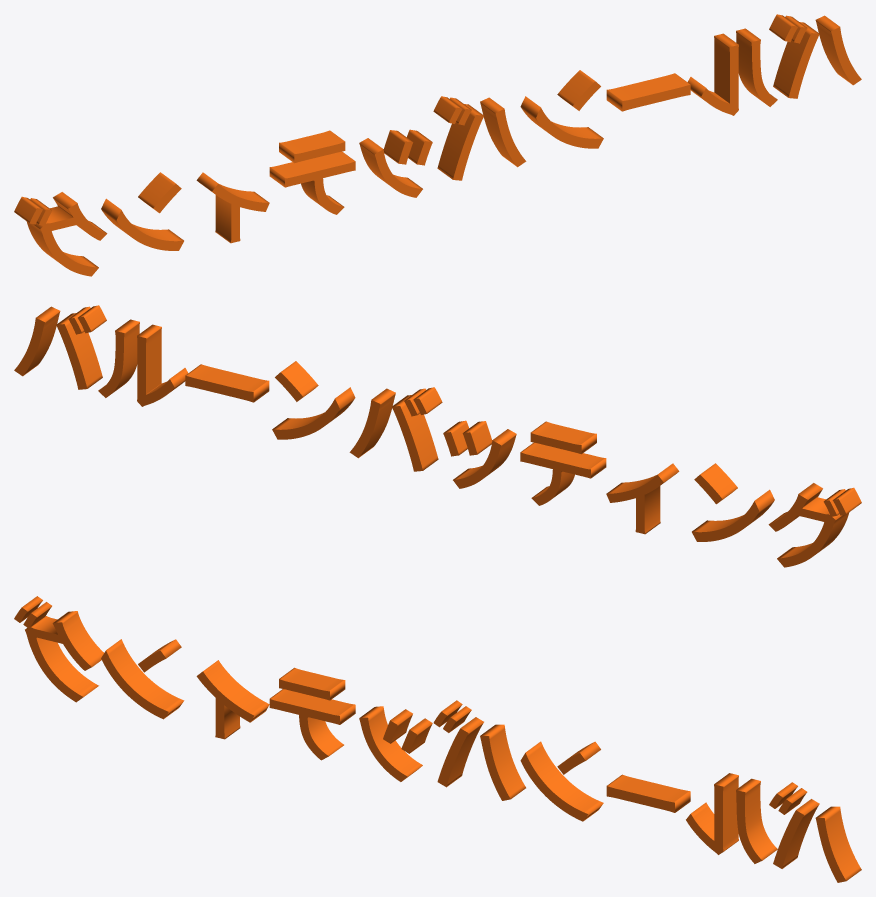
The model's file is Ttile_Bat.obj.
3 views of the same model, one above another, from view 1: azimuth 30°, elevation 25°; view 2: azimuth 150°, elevation 25°; view 3: azimuth 330°, elevation 25° (orthographic).
Parts seen in each view (by area): view 1: テキスト; view 2: テキスト; view 3: テキスト.
Boxes of the visible parts, x1,y1,x2,y2 form: テキスト: [14, 14, 861, 276]; テキスト: [14, 305, 861, 567]; テキスト: [14, 596, 861, 882].
Size of the model in its own units: 24.31 by 2.3 by 0.7841.
Materials: 1 (1 with a texture image).
